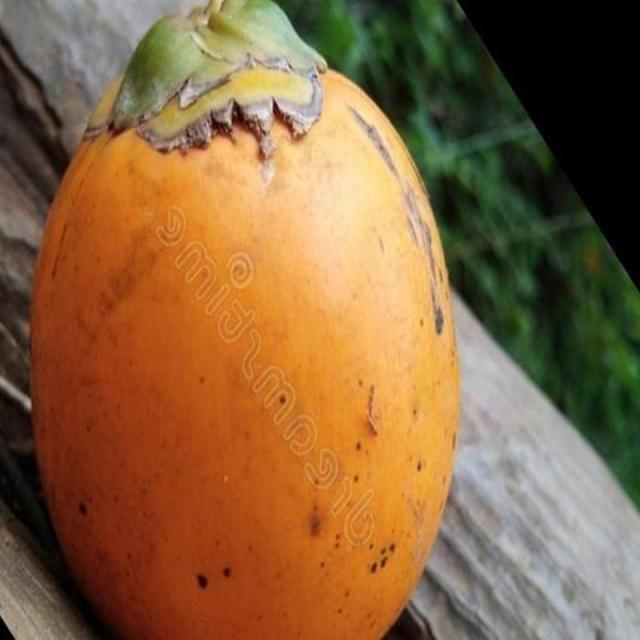good: (30, 0, 462, 639)
